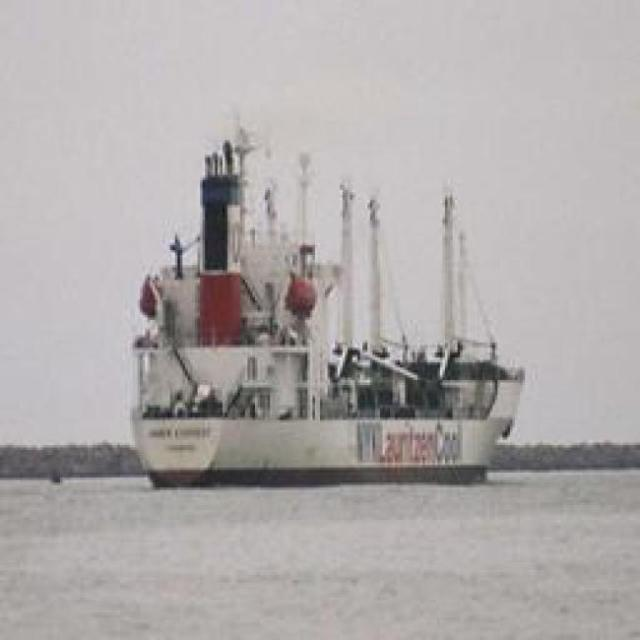boat: (94, 155, 528, 478)
